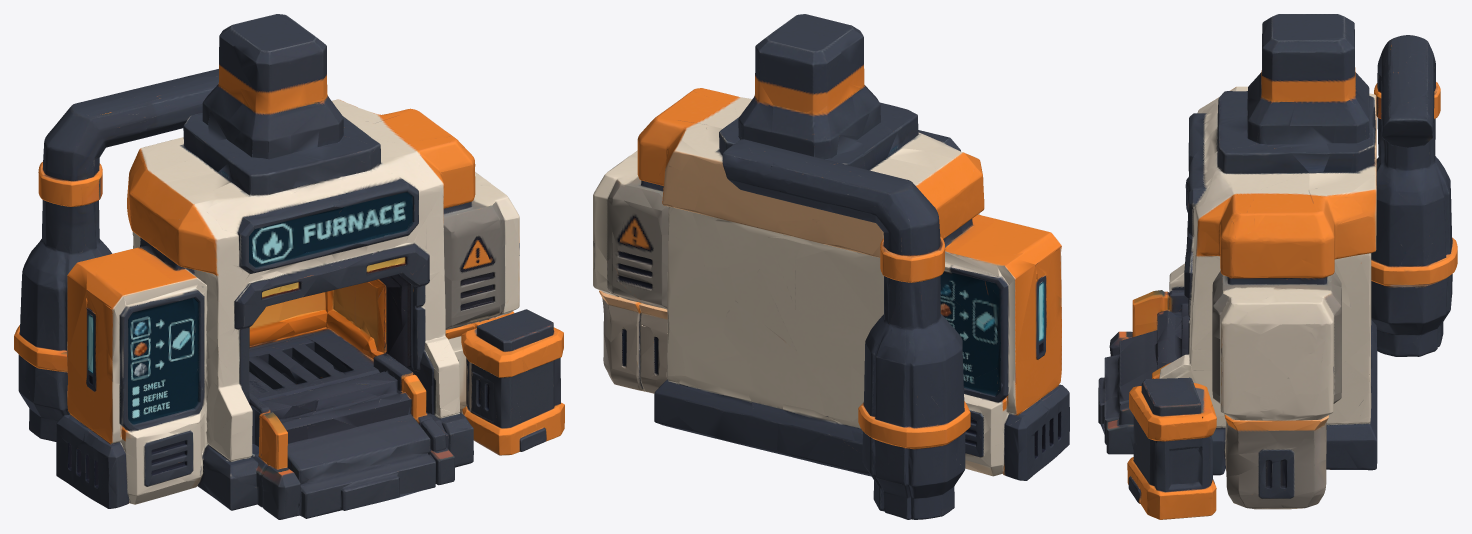
File: ForgeCore_Furnace.glb
The picture shows the model from 3 angles, left to right: view 1: azimuth 30°, elevation 25°; view 2: azimuth 150°, elevation 25°; view 3: azimuth 270°, elevation 25°; orthographic projection. The views are drawn at different scales.
Visible parts, largest first — view 1: Mesh_0; view 2: Mesh_0; view 3: Mesh_0.
Boxes of the visible parts, left/top/right/bottom form: Mesh_0: left=14, top=14, right=564, bottom=519; Mesh_0: left=593, top=14, right=1069, bottom=519; Mesh_0: left=1098, top=14, right=1457, bottom=519.
Bounding box in the file's own units: 1.9 × 1.67 × 1.39.
1 material, 1 textured.
